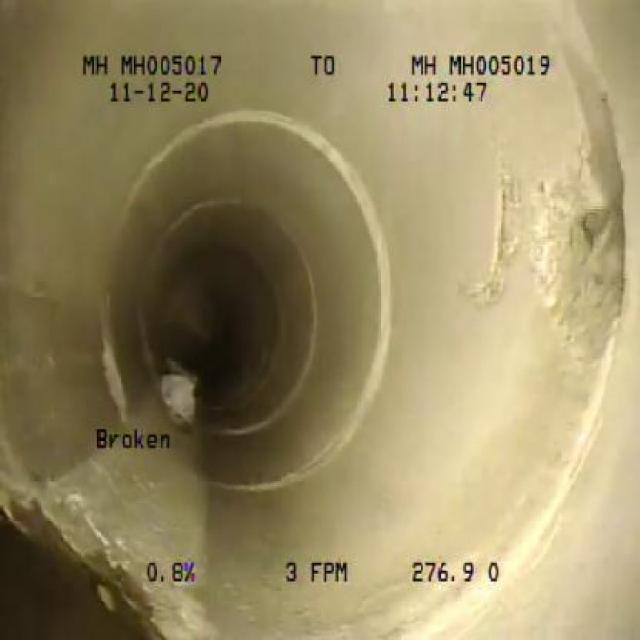Hole: (528, 146, 634, 379)
